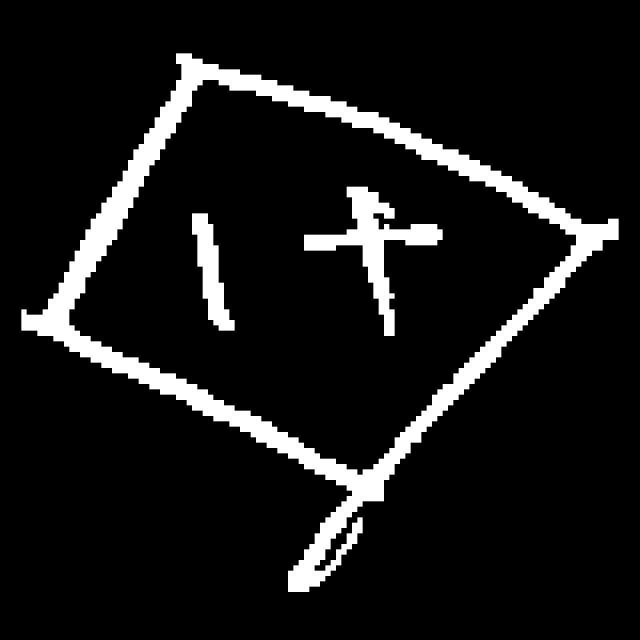dependant_voltage: (48, 61, 600, 503)
